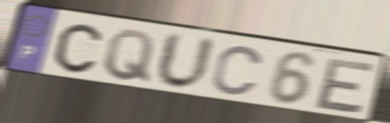6: (265, 49, 319, 109)
C: (210, 44, 266, 98), (52, 22, 104, 75)
E: (312, 57, 378, 116)
Q: (101, 28, 157, 85)
U: (153, 30, 219, 93)
